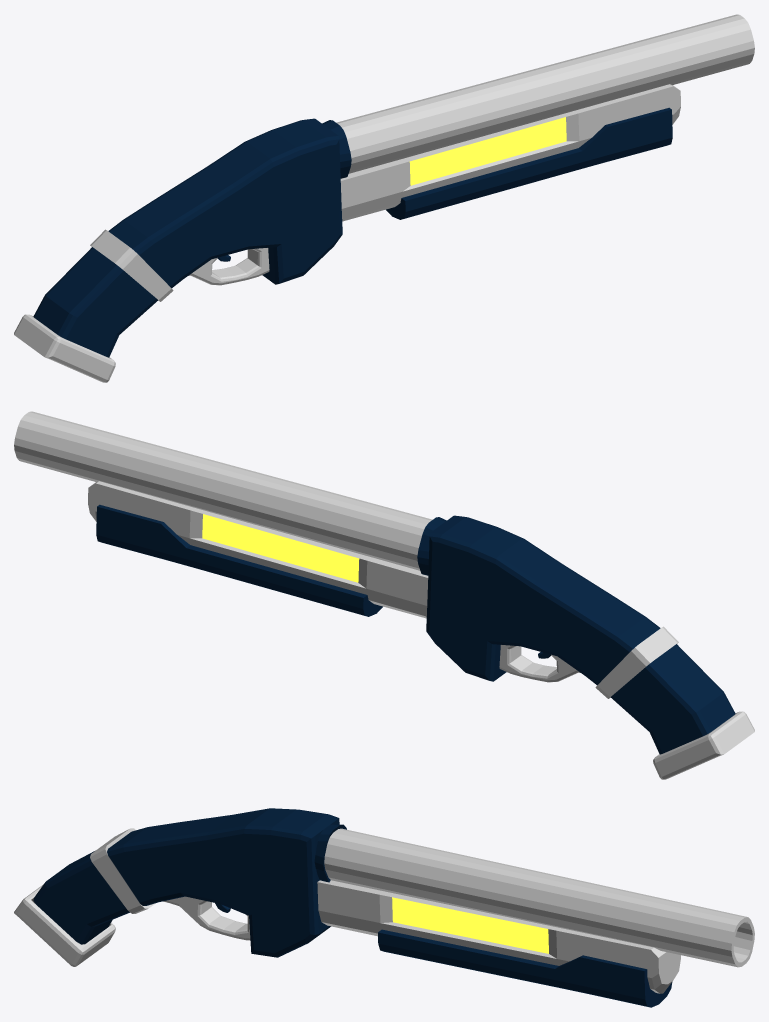
The model's file is shotgun_overtime (1).fbx.
The picture shows the model from 3 angles, top to bottom: view 1: azimuth 30°, elevation 25°; view 2: azimuth 150°, elevation 25°; view 3: azimuth 330°, elevation 25°; orthographic projection.
Parts seen in each view (by area): view 1: Plane; view 2: Plane; view 3: Plane.
Boxes of the visible parts, x1,y1,x2,y2 form: Plane: [14, 14, 754, 382]; Plane: [14, 411, 754, 779]; Plane: [14, 808, 754, 1007].
Bounding box in the file's own units: 260 × 67.84 × 22.29.
